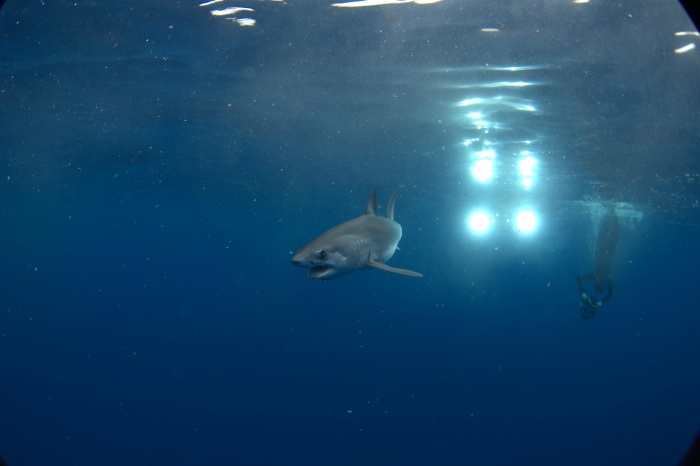Mako: (276, 183, 432, 290)
